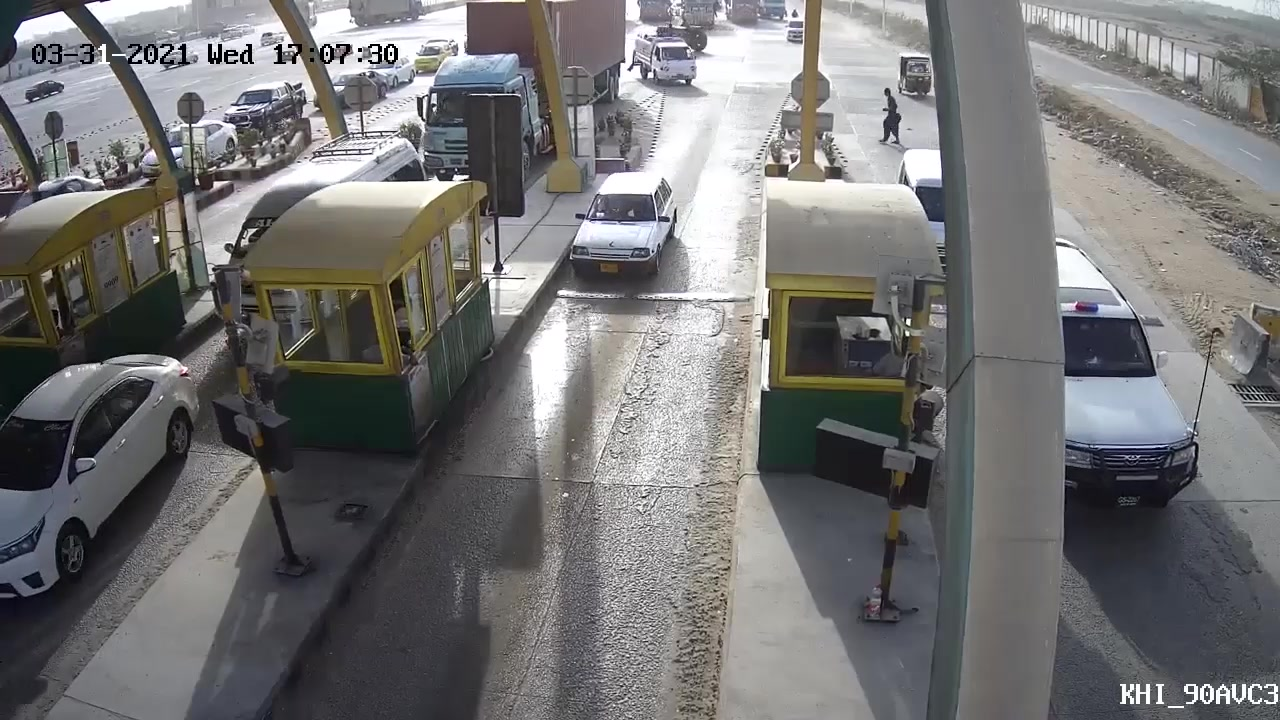F1: (566, 165, 683, 291)
